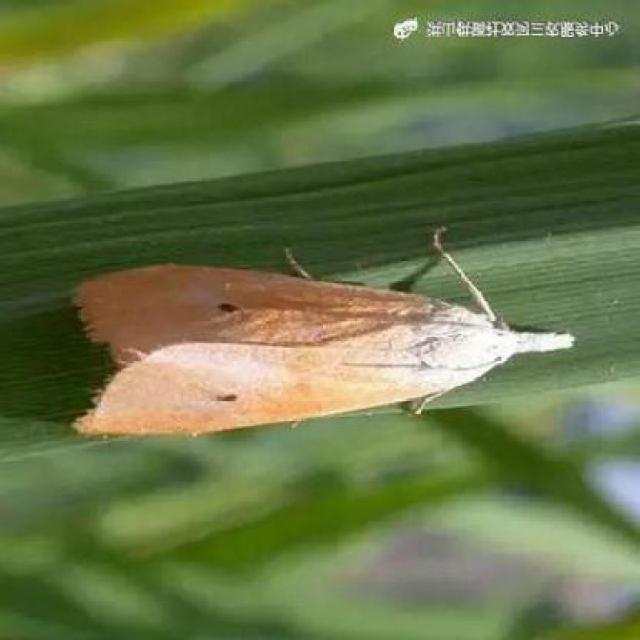stem-borer: (65, 251, 578, 443)
